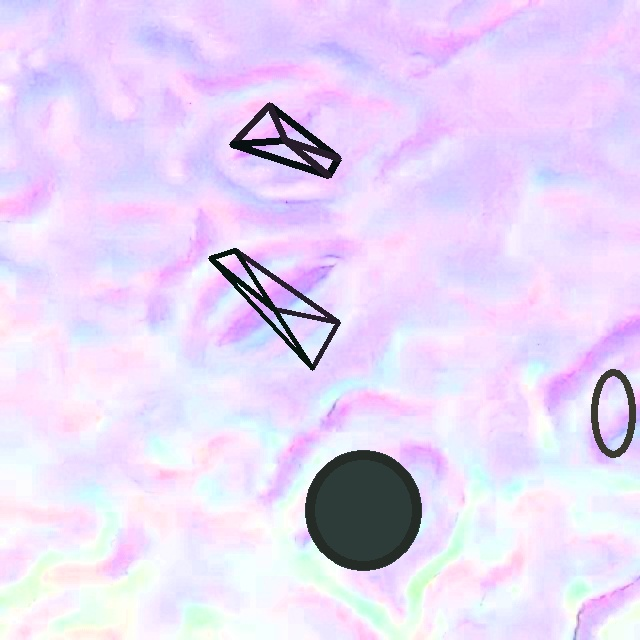open: (209, 248, 339, 370), (306, 450, 420, 569), (229, 102, 341, 178), (590, 369, 636, 457)
